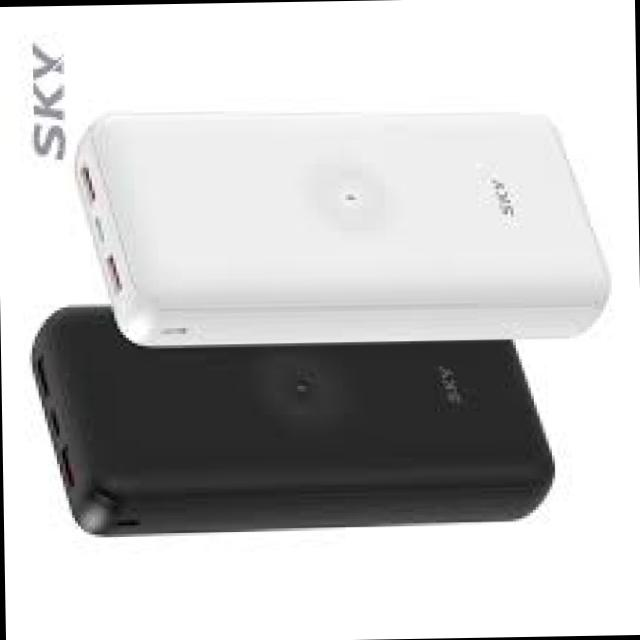portable-charger: (21, 290, 564, 546), (68, 94, 610, 350)
